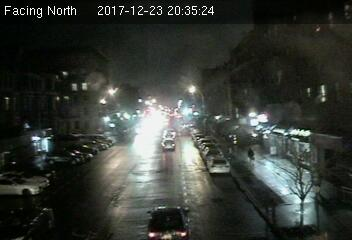car: (147, 205, 192, 240), (206, 155, 231, 174), (162, 138, 175, 150)
